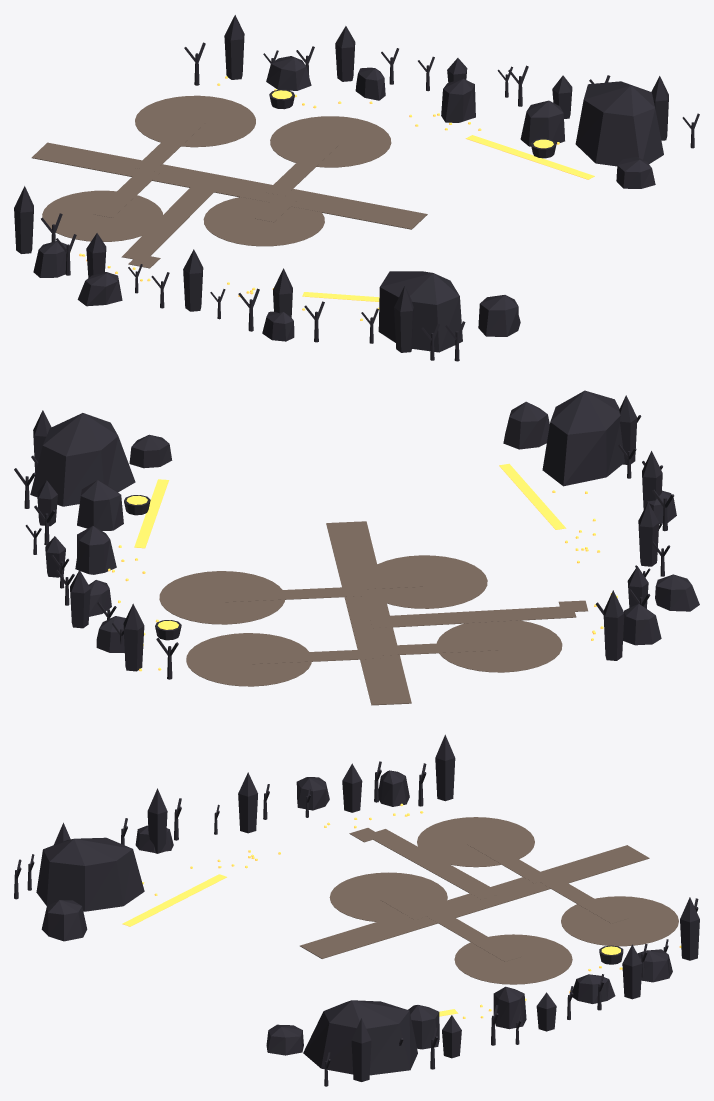
The model's file is Grounds_InfernalCaldera.glb.
The picture shows the model from 3 angles, top to bottom: view 1: azimuth 30°, elevation 25°; view 2: azimuth 150°, elevation 25°; view 3: azimuth 270°, elevation 25°; orthographic projection. The views are drawn at different scales.
Parts seen in each view (by area): view 1: Grounds_InfernalCaldera_InfernalCaldera_path_2_-3, Grounds_InfernalCaldera_InfernalCaldera_dark_3_-4, Grounds_InfernalCaldera_InfernalCaldera_path_1_-3, Grounds_InfernalCaldera_InfernalCaldera_path_2_-4, Grounds_InfernalCaldera_InfernalCaldera_dark_2_-5, Grounds_InfernalCaldera_InfernalCaldera_dark_1_-4, Grounds_InfernalCaldera_InfernalCaldera_dark_3_-3, Grounds_InfernalCaldera_InfernalCaldera_dark_1_-5, Grounds_InfernalCaldera_InfernalCaldera_dark_2_-3, Grounds_InfernalCaldera_InfernalCaldera_path_1_-4, Grounds_InfernalCaldera_Lava glow_3_-4; view 2: Grounds_InfernalCaldera_InfernalCaldera_path_2_-3, Grounds_InfernalCaldera_InfernalCaldera_dark_3_-4, Grounds_InfernalCaldera_InfernalCaldera_path_1_-3, Grounds_InfernalCaldera_InfernalCaldera_dark_2_-5, Grounds_InfernalCaldera_InfernalCaldera_path_2_-4, Grounds_InfernalCaldera_InfernalCaldera_dark_1_-4, Grounds_InfernalCaldera_InfernalCaldera_dark_3_-3, Grounds_InfernalCaldera_InfernalCaldera_path_1_-4, Grounds_InfernalCaldera_InfernalCaldera_dark_2_-3, Grounds_InfernalCaldera_InfernalCaldera_dark_1_-5, Grounds_InfernalCaldera_Lava glow_3_-4, Grounds_InfernalCaldera_Lava glow_2_-5; view 3: Grounds_InfernalCaldera_InfernalCaldera_path_2_-3, Grounds_InfernalCaldera_InfernalCaldera_dark_3_-4, Grounds_InfernalCaldera_InfernalCaldera_dark_2_-5, Grounds_InfernalCaldera_InfernalCaldera_path_1_-3, Grounds_InfernalCaldera_InfernalCaldera_path_2_-4, Grounds_InfernalCaldera_InfernalCaldera_dark_1_-4, Grounds_InfernalCaldera_InfernalCaldera_dark_3_-3, Grounds_InfernalCaldera_InfernalCaldera_path_1_-4, Grounds_InfernalCaldera_InfernalCaldera_dark_2_-3, Grounds_InfernalCaldera_InfernalCaldera_dark_1_-5, Grounds_InfernalCaldera_Lava glow_2_-5.
Part boxes in pixels (x1,y1,x2,y2): Grounds_InfernalCaldera_InfernalCaldera_path_2_-3: (135, 95, 391, 202); Grounds_InfernalCaldera_InfernalCaldera_dark_3_-4: (520, 75, 668, 188); Grounds_InfernalCaldera_InfernalCaldera_path_1_-3: (31, 142, 167, 241); Grounds_InfernalCaldera_InfernalCaldera_path_2_-4: (203, 190, 427, 246); Grounds_InfernalCaldera_InfernalCaldera_dark_2_-5: (378, 271, 520, 361); Grounds_InfernalCaldera_InfernalCaldera_dark_1_-4: (14, 186, 203, 311); Grounds_InfernalCaldera_InfernalCaldera_dark_3_-3: (335, 26, 528, 122); Grounds_InfernalCaldera_InfernalCaldera_dark_1_-5: (210, 268, 413, 352); Grounds_InfernalCaldera_InfernalCaldera_dark_2_-3: (184, 15, 314, 109); Grounds_InfernalCaldera_InfernalCaldera_path_1_-4: (121, 180, 221, 268); Grounds_InfernalCaldera_Lava glow_3_-4: (465, 128, 594, 179); Grounds_InfernalCaldera_InfernalCaldera_path_2_-3: (159, 571, 397, 686); Grounds_InfernalCaldera_InfernalCaldera_dark_3_-4: (14, 410, 172, 530); Grounds_InfernalCaldera_InfernalCaldera_path_1_-3: (357, 620, 562, 705); Grounds_InfernalCaldera_InfernalCaldera_dark_2_-5: (503, 390, 641, 486); Grounds_InfernalCaldera_InfernalCaldera_path_2_-4: (326, 521, 487, 608); Grounds_InfernalCaldera_InfernalCaldera_dark_1_-4: (595, 502, 699, 660); Grounds_InfernalCaldera_InfernalCaldera_dark_3_-3: (25, 505, 116, 628); Grounds_InfernalCaldera_InfernalCaldera_path_1_-4: (369, 600, 587, 628); Grounds_InfernalCaldera_InfernalCaldera_dark_2_-3: (96, 602, 181, 679); Grounds_InfernalCaldera_InfernalCaldera_dark_1_-5: (618, 395, 676, 531); Grounds_InfernalCaldera_Lava glow_3_-4: (118, 479, 168, 548); Grounds_InfernalCaldera_Lava glow_2_-5: (499, 463, 566, 529); Grounds_InfernalCaldera_InfernalCaldera_path_2_-3: (421, 876, 678, 984); Grounds_InfernalCaldera_InfernalCaldera_dark_3_-4: (266, 1000, 461, 1081); Grounds_InfernalCaldera_InfernalCaldera_dark_2_-5: (14, 837, 144, 941); Grounds_InfernalCaldera_InfernalCaldera_path_1_-3: (417, 817, 649, 890); Grounds_InfernalCaldera_InfernalCaldera_path_2_-4: (300, 872, 447, 958); Grounds_InfernalCaldera_InfernalCaldera_dark_1_-4: (238, 734, 455, 833); Grounds_InfernalCaldera_InfernalCaldera_dark_3_-3: (491, 944, 642, 1045); Grounds_InfernalCaldera_InfernalCaldera_path_1_-4: (349, 828, 501, 899); Grounds_InfernalCaldera_InfernalCaldera_dark_2_-3: (599, 897, 699, 982); Grounds_InfernalCaldera_InfernalCaldera_dark_1_-5: (54, 788, 219, 853); Grounds_InfernalCaldera_Lava glow_2_-5: (122, 874, 226, 926).
Bounding box in the file's own units: 336 × 38.83 × 325.
